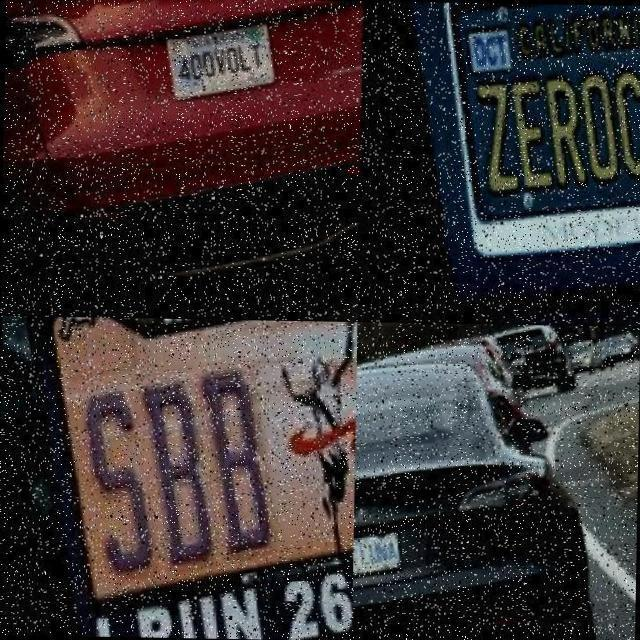License Plate: (70, 315, 358, 585), (428, 2, 640, 278), (164, 22, 274, 101), (351, 530, 401, 578)
